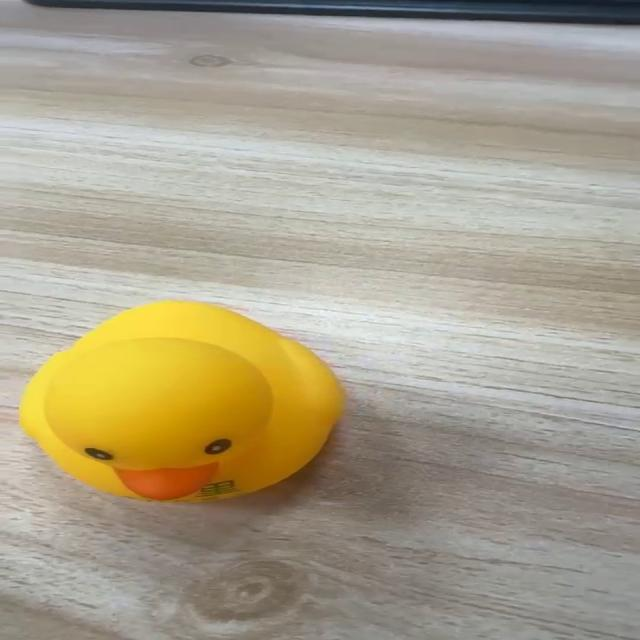yellow_duck: (17, 298, 347, 504)
